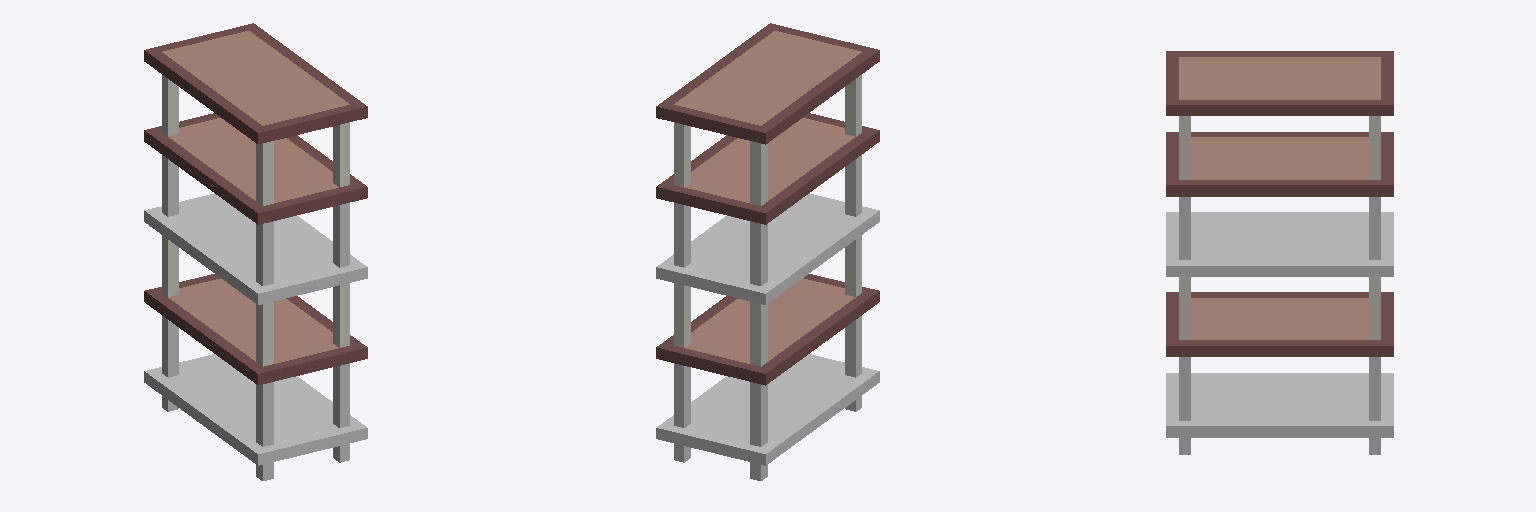
3 views of the same model, side by side, from view 1: azimuth 30°, elevation 25°; view 2: azimuth 150°, elevation 25°; view 3: azimuth 270°, elevation 25° (orthographic).
Parts seen in each view (by area): view 1: cube; view 2: cube; view 3: cube.
Boxes of the visible parts, x1,y1,x2,y2 form: cube: [144, 23, 367, 480]; cube: [656, 23, 879, 480]; cube: [1166, 51, 1393, 454].
Bounding box in the file's own units: 0.625 × 1.94 × 1.12.
Materials: 5 (2 with a texture image).